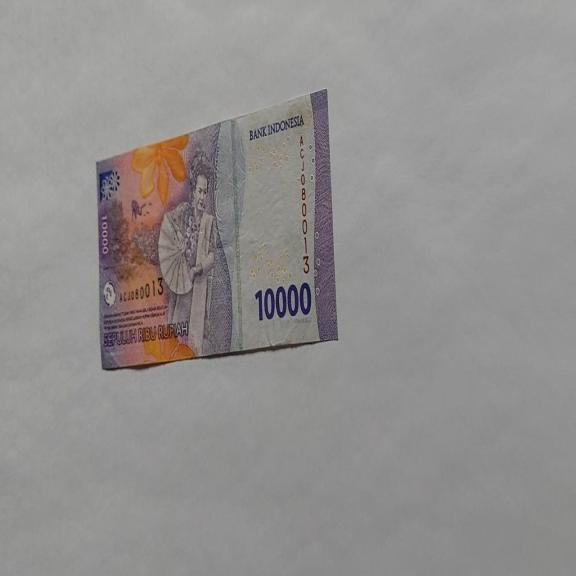Kertas: (96, 88, 338, 370), (254, 280, 312, 322)
